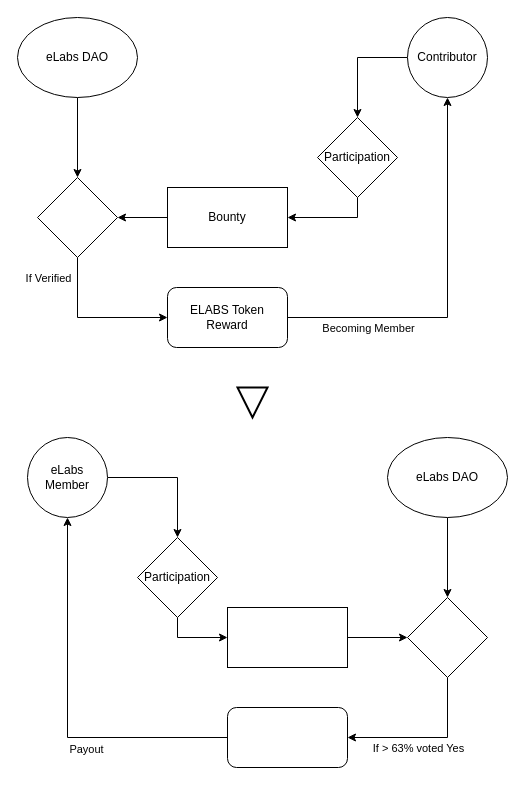
The diagram is 525 pixels wide and 785 high, and some of its shapes have lost their labels. The box of each missing label's shape, as (x1, y1, x2, y2) in pixels:
ELABS Treasury: (226, 706, 348, 768)
Proposal: (226, 606, 348, 668)
Verification: (36, 176, 118, 258)
Voting: (406, 596, 488, 678)
